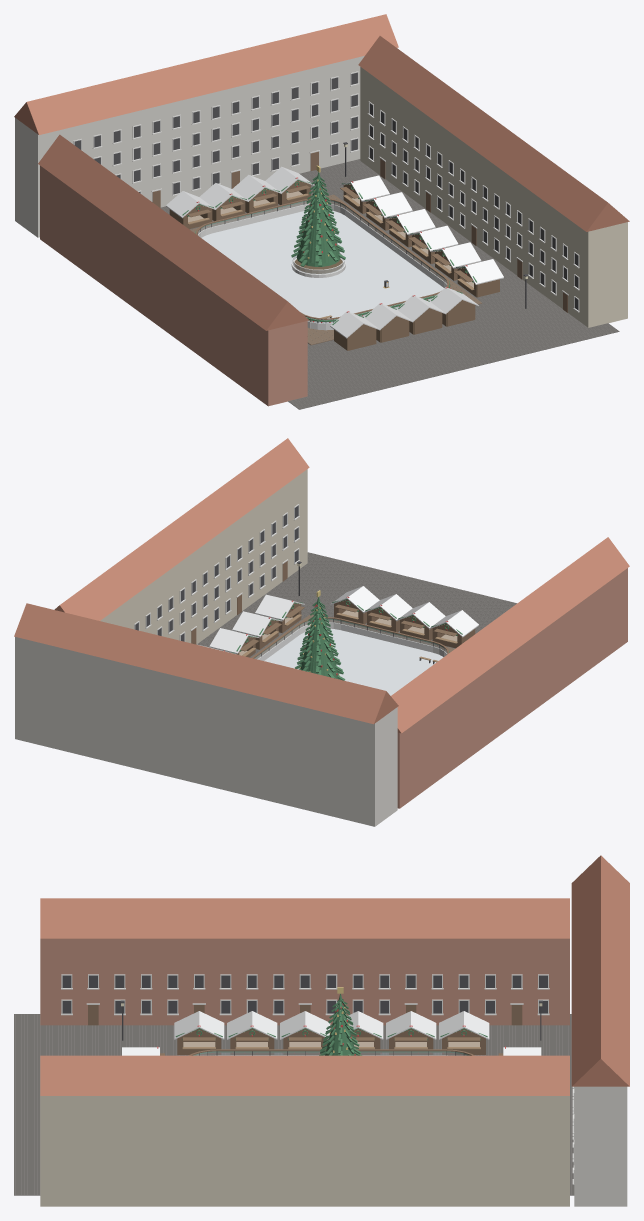
The model's file is clay-ice-rink-market-square-clay-v002.glb.
The picture shows the model from 3 angles, top to bottom: view 1: azimuth 30°, elevation 25°; view 2: azimuth 150°, elevation 25°; view 3: azimuth 270°, elevation 25°; orthographic projection. The views are drawn at different scales.
Visible parts, largest first — view 1: CLAY_TROOF, CLAY_FACADE3, CLAY_FACADE, CLAY_FACADE2, CLAY_SETTS, CLAY_ICE, CLAY_SNOW, CLAY_TRIM, CLAY_HUT, CLAY_DARK, CLAY_JOINT, CLAY_TREE (+6 smaller); view 2: CLAY_FACADE3, CLAY_TROOF, CLAY_FACADE2, CLAY_FACADE, CLAY_SETTS, CLAY_ICE, CLAY_SNOW, CLAY_HUT, CLAY_TRIM, CLAY_TREE, CLAY_JOINT, CLAY_DARK (+5 smaller); view 3: CLAY_FACADE, CLAY_TROOF, CLAY_FACADE2, CLAY_SETTS, CLAY_FACADE3, CLAY_SNOW, CLAY_DARK, CLAY_HUT, CLAY_TRIM, CLAY_JOINT, CLAY_TIMBER, CLAY_TREE (+4 smaller).
Boxes of the visible parts, bbox=[...] form: CLAY_TROOF: bbox=[14, 14, 629, 330]; CLAY_FACADE3: bbox=[15, 48, 397, 237]; CLAY_FACADE: bbox=[360, 67, 627, 327]; CLAY_FACADE2: bbox=[40, 165, 307, 406]; CLAY_SETTS: bbox=[160, 159, 619, 409]; CLAY_ICE: bbox=[201, 210, 444, 323]; CLAY_SNOW: bbox=[166, 166, 503, 338]; CLAY_TRIM: bbox=[73, 71, 579, 312]; CLAY_HUT: bbox=[169, 180, 499, 350]; CLAY_DARK: bbox=[74, 72, 578, 309]; CLAY_JOINT: bbox=[163, 160, 615, 408]; CLAY_TREE: bbox=[291, 172, 345, 266]; CLAY_FACADE3: bbox=[15, 637, 397, 826]; CLAY_TROOF: bbox=[14, 438, 629, 733]; CLAY_FACADE2: bbox=[397, 568, 627, 808]; CLAY_FACADE: bbox=[100, 469, 307, 644]; CLAY_SETTS: bbox=[197, 552, 516, 657]; CLAY_ICE: bbox=[264, 628, 443, 695]; CLAY_SNOW: bbox=[197, 586, 478, 654]; CLAY_HUT: bbox=[214, 599, 475, 657]; CLAY_TRIM: bbox=[134, 504, 299, 641]; CLAY_TREE: bbox=[295, 597, 345, 680]; CLAY_JOINT: bbox=[201, 553, 514, 657]; CLAY_DARK: bbox=[135, 506, 298, 641]; CLAY_FACADE: bbox=[40, 1096, 569, 1206]; CLAY_TROOF: bbox=[40, 855, 629, 1095]; CLAY_FACADE2: bbox=[40, 938, 569, 1025]; CLAY_SETTS: bbox=[14, 1014, 574, 1195]; CLAY_FACADE3: bbox=[574, 1086, 627, 1206]; CLAY_SNOW: bbox=[122, 1011, 541, 1055]; CLAY_DARK: bbox=[62, 975, 547, 1013]; CLAY_HUT: bbox=[160, 1029, 503, 1055]; CLAY_TRIM: bbox=[61, 974, 574, 1184]; CLAY_JOINT: bbox=[15, 1014, 571, 1194]; CLAY_TIMBER: bbox=[88, 1005, 522, 1055]; CLAY_TREE: bbox=[319, 993, 361, 1055].
Size of the model in its own units: 55.2 by 18.5 by 69.8.
